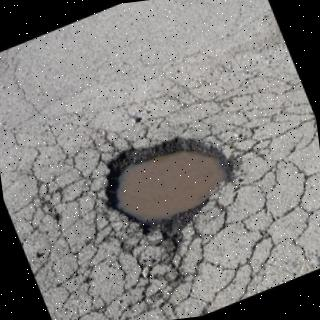pothole: (105, 137, 231, 225)
